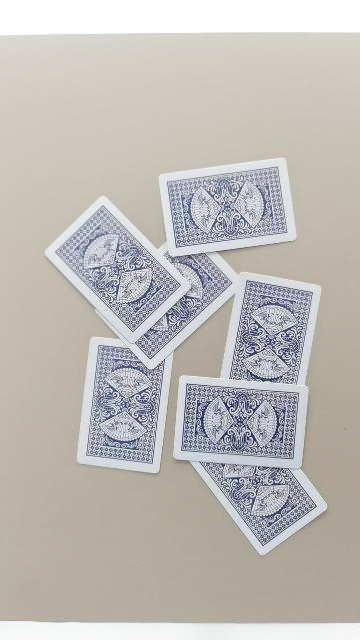card: (45, 196, 190, 341), (96, 244, 238, 369), (159, 158, 296, 256), (191, 461, 326, 555), (78, 338, 172, 472), (175, 376, 309, 468), (221, 272, 321, 385)
